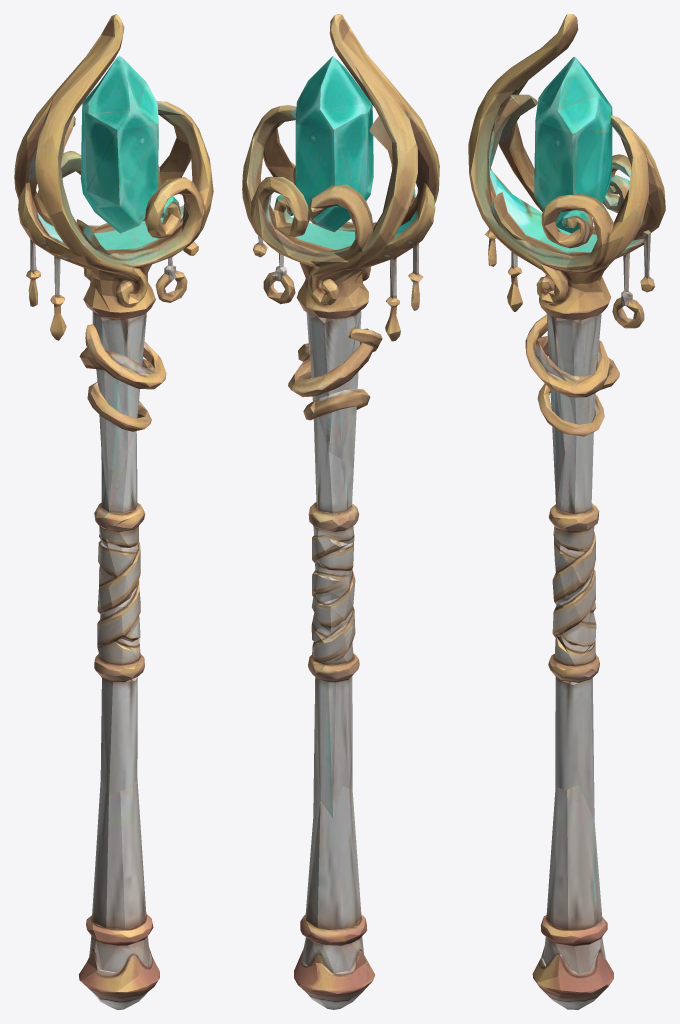
The model's file is cajado.glb.
3 renders of one model, left to right at view 1: azimuth 30°, elevation 25°; view 2: azimuth 150°, elevation 25°; view 3: azimuth 330°, elevation 25°, orthographic.
Parts seen in each view (by area): view 1: output_unwrapped; view 2: output_unwrapped; view 3: output_unwrapped.
Boxes of the visible parts, <box> form: output_unwrapped: <box>14,14,213,1009</box>; output_unwrapped: <box>242,14,439,1009</box>; output_unwrapped: <box>468,14,665,1009</box>.
Size of the model in its own units: 0.3142 by 1.65 by 0.2064.
1 material, 1 textured.
